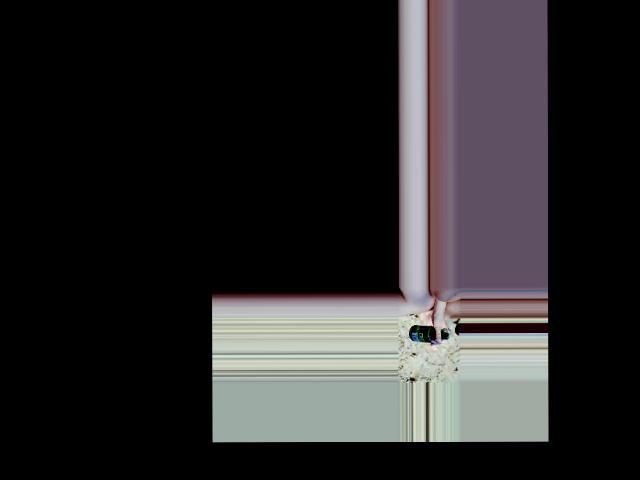beer: (408, 324, 449, 342)
